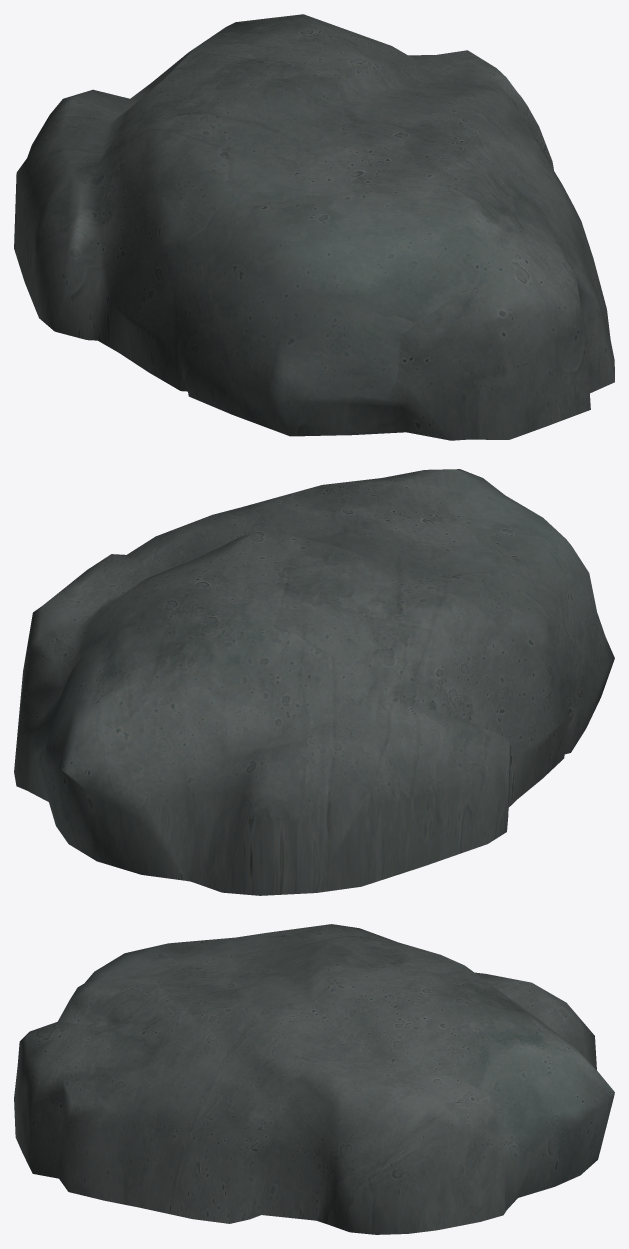
File: Cliff_Wall_Short02.fbx
3 renders of one model, top to bottom at view 1: azimuth 30°, elevation 25°; view 2: azimuth 150°, elevation 25°; view 3: azimuth 270°, elevation 25°, orthographic. The views are drawn at different scales.
Visible parts, largest first — view 1: SM_CliffWall_Small02.mo; view 2: SM_CliffWall_Small02.mo; view 3: SM_CliffWall_Small02.mo.
Boxes of the visible parts, left/top/right/bottom form: SM_CliffWall_Small02.mo: left=14, top=14, right=614, bottom=440; SM_CliffWall_Small02.mo: left=14, top=469, right=614, bottom=895; SM_CliffWall_Small02.mo: left=14, top=924, right=614, bottom=1234.
Size of the model in its own units: 762 by 327 by 1001.
1 material, 1 textured.
